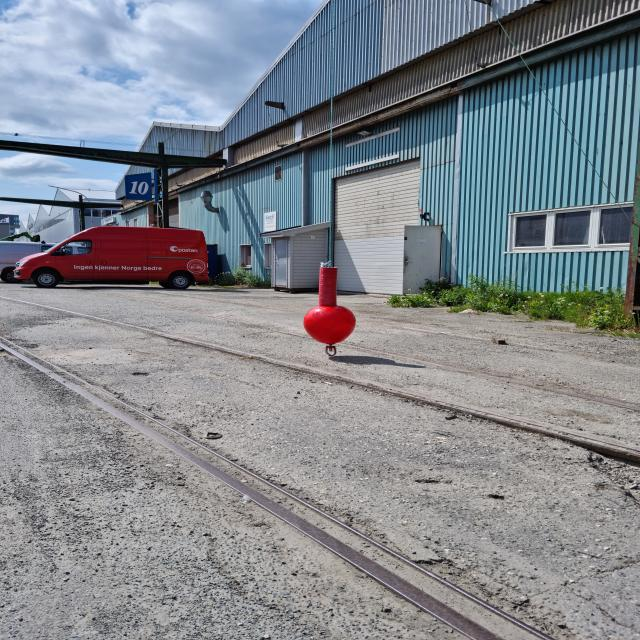red: (306, 267, 356, 344)
